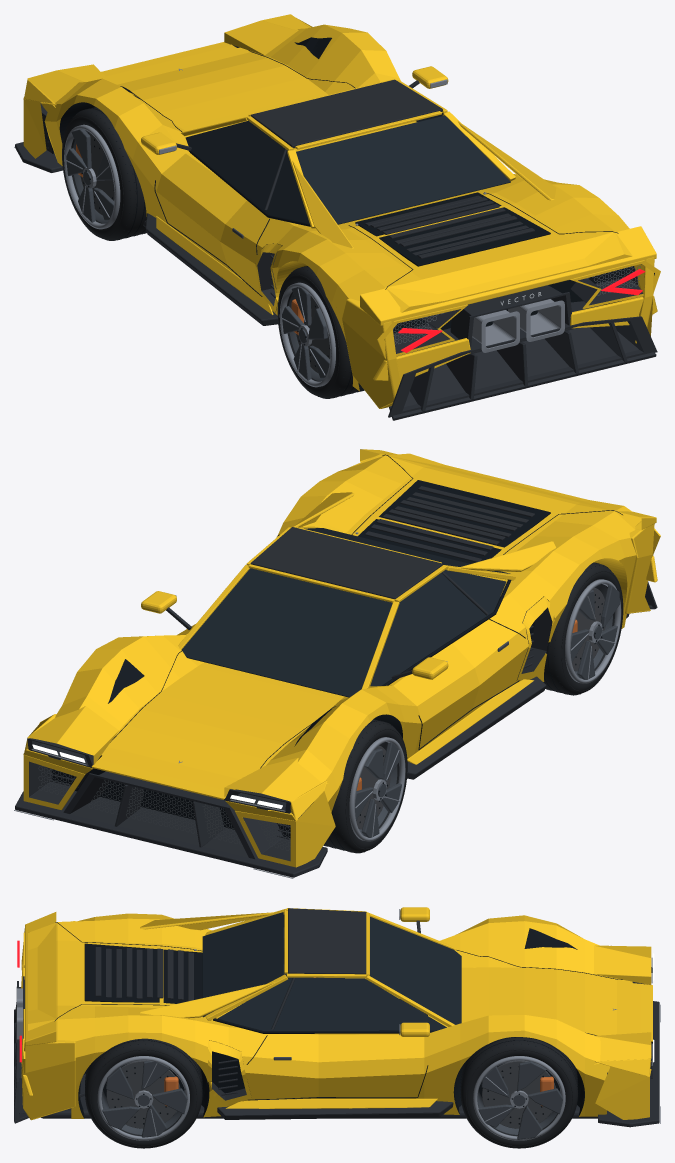
The model's file is Vector_V03.glb.
3 renders of one model, top to bottom at view 1: azimuth 30°, elevation 25°; view 2: azimuth 150°, elevation 25°; view 3: azimuth 270°, elevation 25°, orthographic. The views are drawn at different scales.
Visible parts, largest first — view 1: Monocoque faceted body.001, Rear screen.001, Integrated rear deck wedge.001, Angular roof substrate.001, Side cabin glass -1.001, Rear diffuser undertray.001, Rear outer faceted buttress -1.001, Front tyre.002, Engine hatch black aperture.001, Rear tyre.002, Rear diffuser mouth faceted surround.001, Blade sill -1.001 (+29 smaller); view 2: Monocoque faceted body.001, Panoramic windscreen.001, Angular roof substrate.001, Side cabin glass -1.001, Central front intake deep duct walls.001, Engine hatch black aperture.001, Front carbon splitter.001, Front tyre.002, Rear tyre.002, Headlight integrated fender cap 1.001, Headlight integrated fender cap -1.001, Central front intake perforated insert.001 (+31 smaller); view 3: Monocoque faceted body.001, Side cabin glass 1.001, Panoramic windscreen.001, Rear screen.001, Angular roof substrate.001, Front tyre.003, Rear tyre.003, Engine hatch black aperture.001, Rear outer faceted buttress 1.001, Integrated rear deck wedge.001, Blade sill 1.001, Faceted front cheek 1.001 (+35 smaller).
Boxes of the visible parts, x1,y1,x2,y2 form: Monocoque faceted body.001: (41, 24, 632, 391); Rear screen.001: (296, 115, 510, 224); Integrated rear deck wedge.001: (360, 226, 656, 325); Angular roof substrate.001: (250, 79, 442, 147); Side cabin glass -1.001: (185, 120, 309, 223); Rear diffuser undertray.001: (389, 327, 656, 420); Rear outer faceted buttress -1.001: (342, 298, 400, 408); Front tyre.002: (62, 107, 146, 240); Engine hatch black aperture.001: (355, 192, 550, 266); Rear tyre.002: (278, 266, 359, 398); Rear diffuser mouth faceted surround.001: (388, 316, 657, 417); Blade sill -1.001: (145, 213, 278, 325); Monocoque faceted body.001: (47, 453, 641, 812); Panoramic windscreen.001: (182, 568, 392, 697); Angular roof substrate.001: (250, 527, 442, 599); Side cabin glass -1.001: (370, 569, 506, 686); Central front intake deep duct walls.001: (70, 771, 254, 857); Engine hatch black aperture.001: (358, 480, 550, 563); Front carbon splitter.001: (15, 791, 327, 877); Front tyre.002: (324, 719, 406, 853); Rear tyre.002: (543, 563, 622, 695); Headlight integrated fender cap 1.001: (28, 706, 118, 765); Headlight integrated fender cap -1.001: (224, 758, 327, 801); Central front intake perforated insert.001: (88, 780, 242, 845); Monocoque faceted body.001: (28, 913, 652, 1118); Side cabin glass 1.001: (217, 977, 446, 1030); Panoramic windscreen.001: (370, 917, 461, 1024); Rear screen.001: (202, 912, 283, 1017); Angular roof substrate.001: (288, 908, 366, 974); Front tyre.003: (461, 1037, 577, 1148); Rear tyre.003: (85, 1038, 202, 1148); Engine hatch black aperture.001: (84, 943, 202, 1003); Rear outer faceted buttress 1.001: (21, 1040, 75, 1120); Integrated rear deck wedge.001: (25, 912, 56, 1045); Blade sill 1.001: (217, 1101, 455, 1119); Faceted front cheek 1.001: (595, 1066, 649, 1119).
Bounding box in the file's own units: 2.33 × 1.3 × 5.03.
